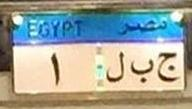1: (47, 52, 64, 86)
baa: (129, 56, 153, 82)
jeem: (155, 49, 181, 83)
laam: (104, 51, 127, 85)
